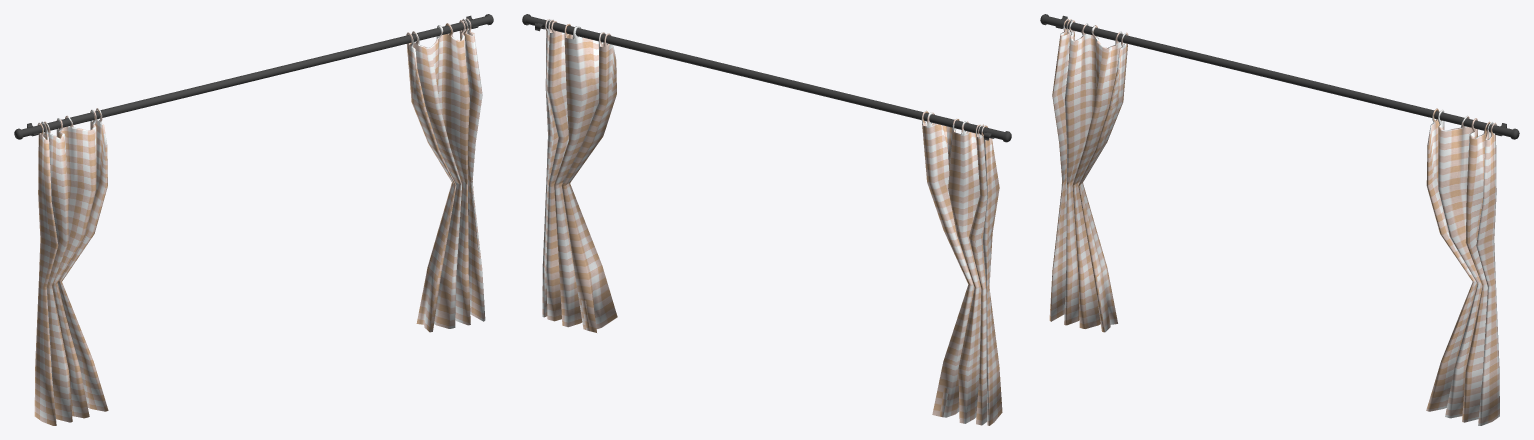
The model's file is curtains.fbx.
3 views of the same model, side by side, from view 1: azimuth 30°, elevation 25°; view 2: azimuth 150°, elevation 25°; view 3: azimuth 330°, elevation 25° (orthographic). The views are drawn at different scales.
Parts seen in each view (by area): view 1: Curtains, Curtain rod; view 2: Curtains, Curtain rod; view 3: Curtains, Curtain rod.
Part boxes in pixels (<box>): Curtains: <box>34,18,485,425</box>; Curtain rod: <box>14,14,493,139</box>; Curtains: <box>542,19,1002,425</box>; Curtain rod: <box>522,14,1011,142</box>; Curtains: <box>1049,18,1499,425</box>; Curtain rod: <box>1040,14,1519,139</box>.
Size of the model in its own units: 8.35 by 4.95 by 0.6404.
Materials: 2 (1 with a texture image).
